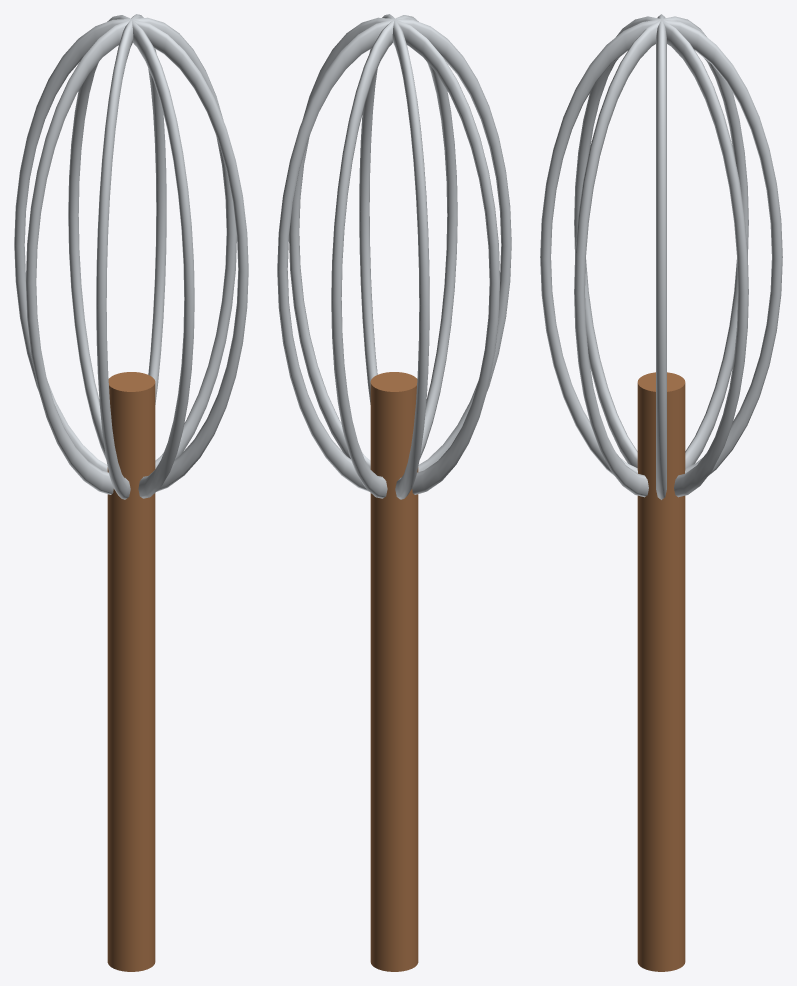
Rendered from wp-fouet-de-cuisine.glb.
The picture shows the model from 3 angles, left to right: view 1: azimuth 30°, elevation 25°; view 2: azimuth 150°, elevation 25°; view 3: azimuth 270°, elevation 25°; orthographic projection.
Parts seen in each view (by area): view 1: wp-fouet-de-cuisine; view 2: wp-fouet-de-cuisine; view 3: wp-fouet-de-cuisine.
Boxes of the visible parts, x1,y1,x2,y2 form: wp-fouet-de-cuisine: (14,14,248,971); wp-fouet-de-cuisine: (277,14,511,971); wp-fouet-de-cuisine: (540,14,782,971).
Size of the model in its own units: 0.07 by 0.3 by 0.07.
